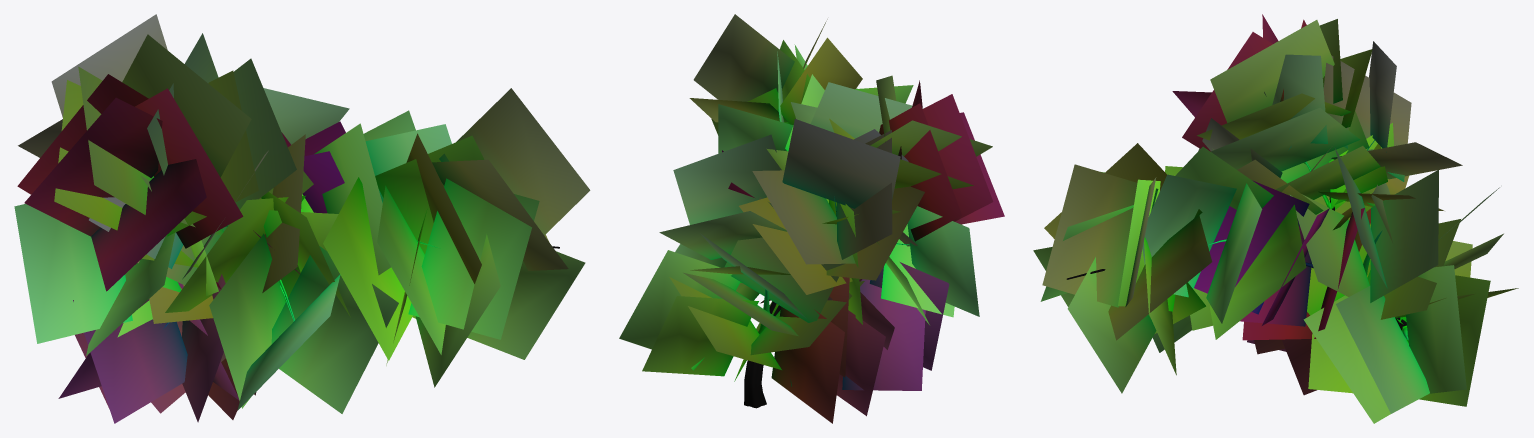
Rendered from URP_P15_Tree_8_LOD_1.fbx.
The picture shows the model from 3 angles, left to right: view 1: azimuth 30°, elevation 25°; view 2: azimuth 150°, elevation 25°; view 3: azimuth 270°, elevation 25°; orthographic projection. The views are drawn at different scales.
Visible parts, largest first — view 1: Tree_8_LOD_1; view 2: Tree_8_LOD_1; view 3: Tree_8_LOD_1.
Boxes of the visible parts, box(x1,y1,x2,y2) form: Tree_8_LOD_1: box(14, 14, 590, 423); Tree_8_LOD_1: box(619, 14, 1004, 423); Tree_8_LOD_1: box(1033, 14, 1518, 423).
Size of the model in its own units: 711 by 580 by 741.
